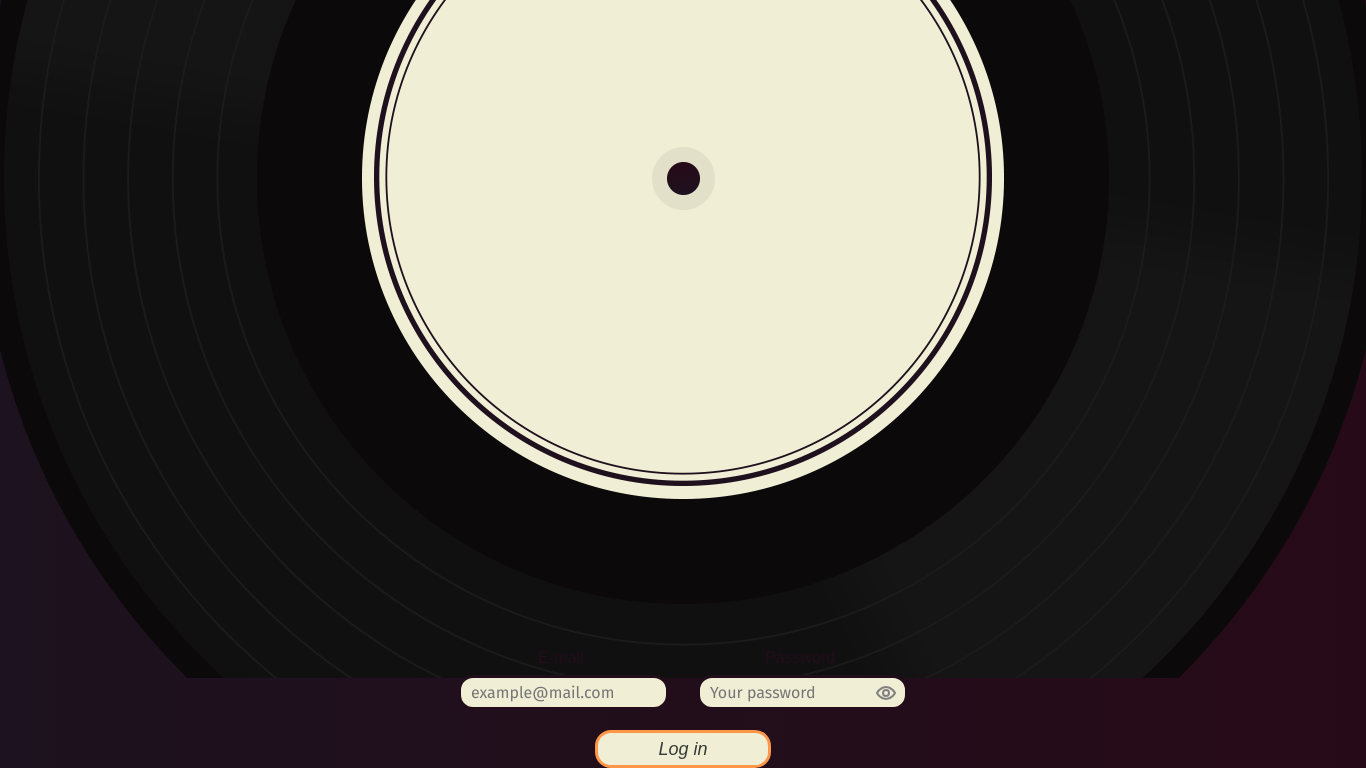
Test case: LoginForm › Input Behavior & Validation › should handle rapid typing and backspacing
(page scrolled)
Type "abc123" into the password field labelled "Password".
click(802, 692); type("abc123")  # box [697,675,908,710]
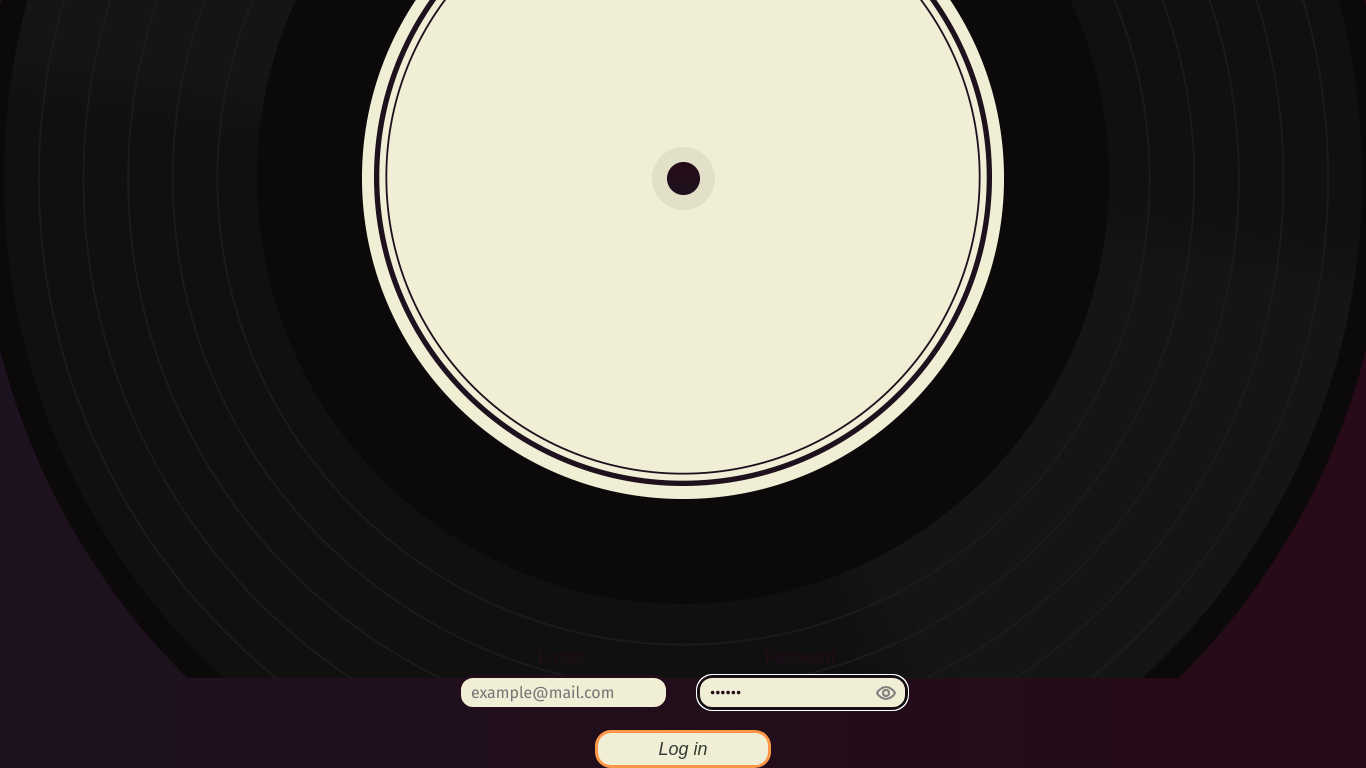
Press Backspace Backspace Backspace
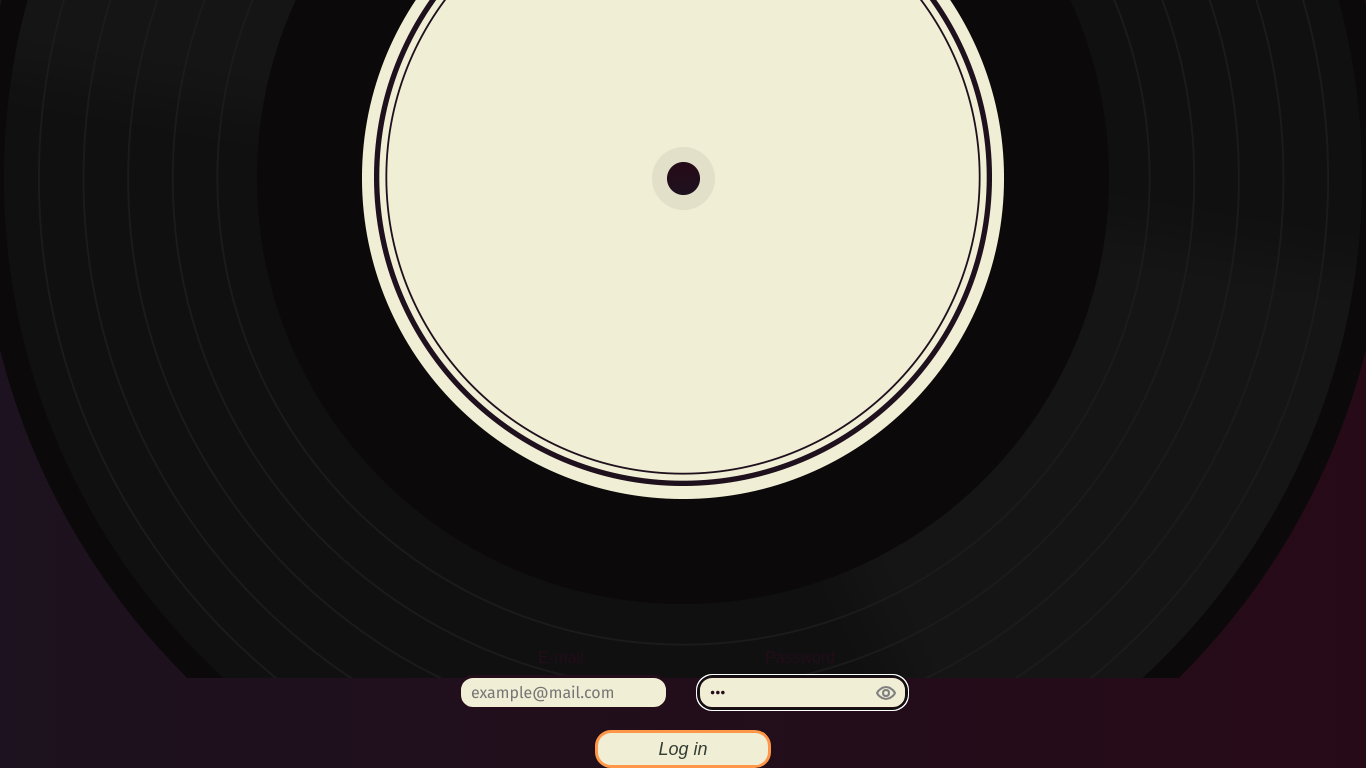
Type "456" into the password field labelled "Password".
click(802, 692); type("456")  # box [697,675,908,710]
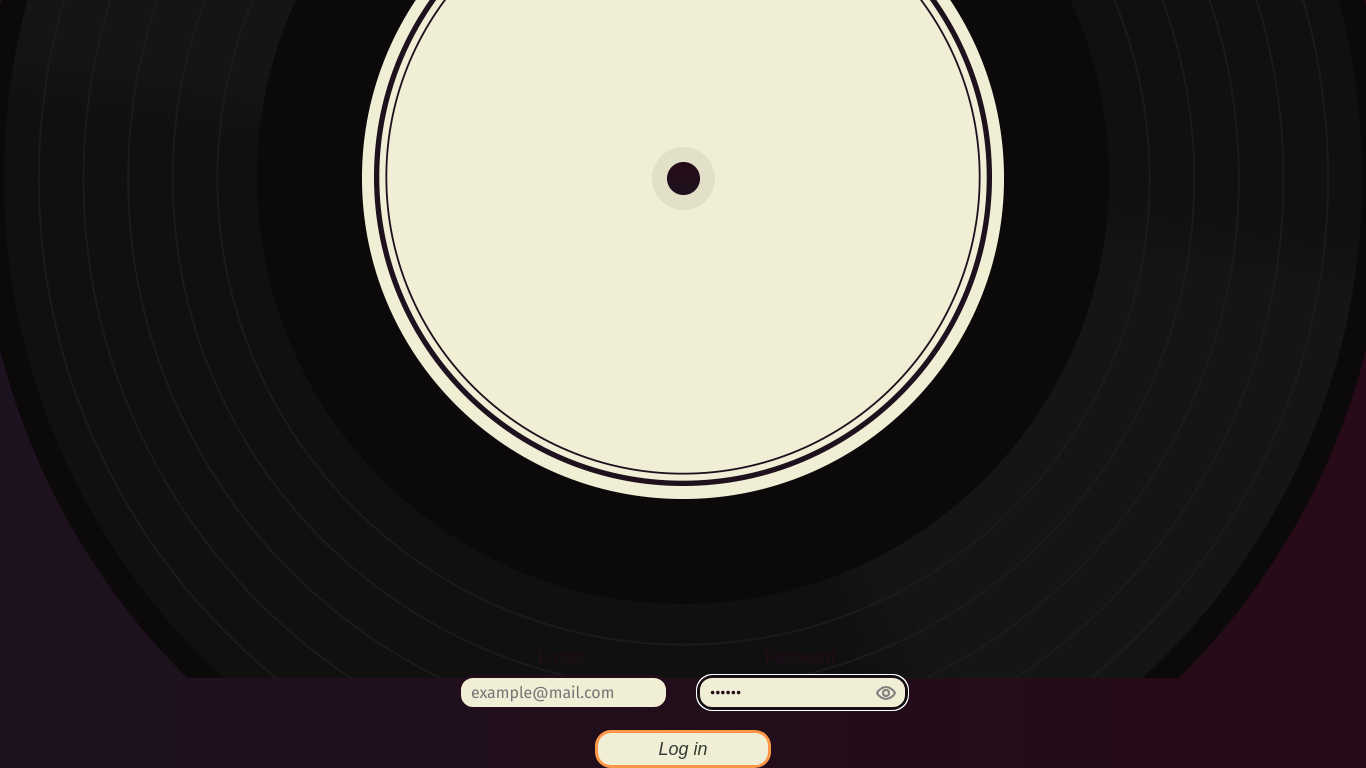
Check: the password field labelled "Password" holds "abc456", box [697,675,908,710]
